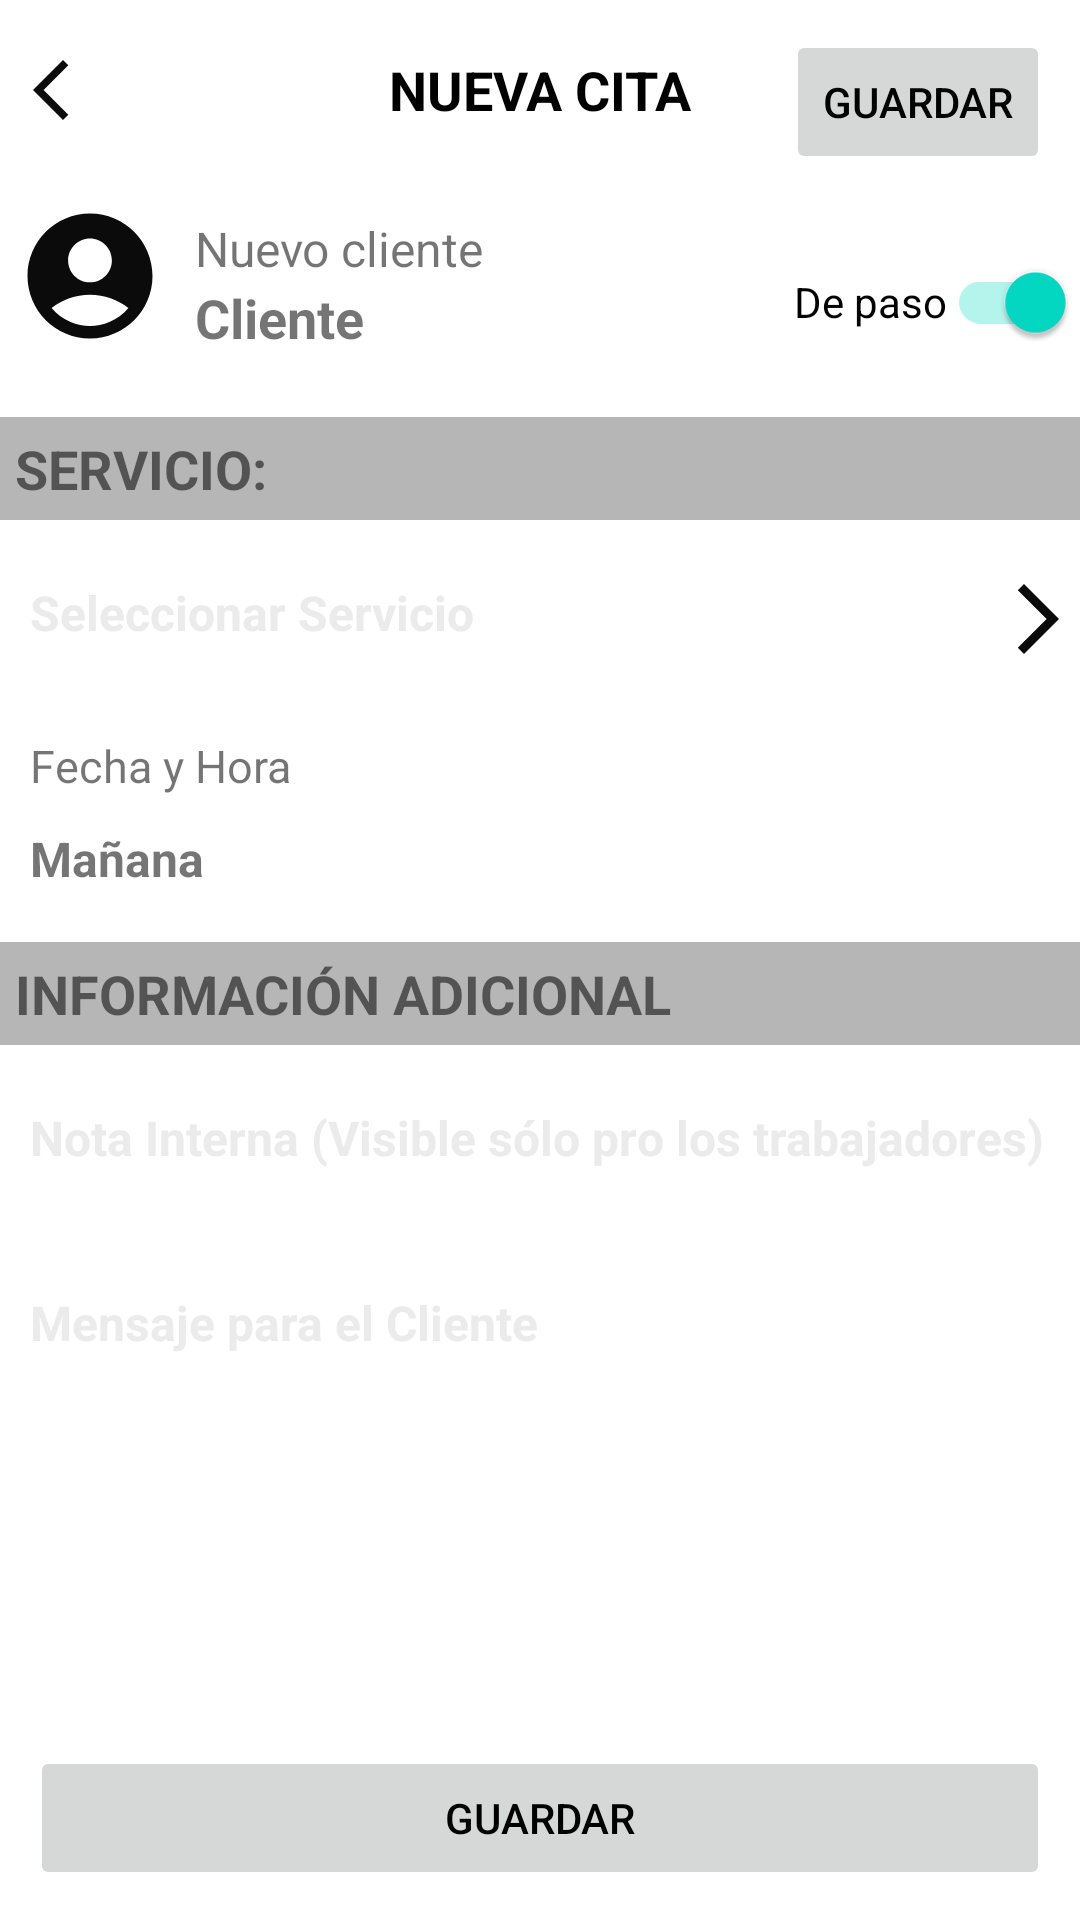

Icons on this 1080px x 1920px Android screen, each with its box as (x1=x1, y1=y1, x2=x2, y2=y2):
account: (x1=27, y1=213, x2=153, y2=339)
arrow forward: (x1=1018, y1=584, x2=1059, y2=654)
